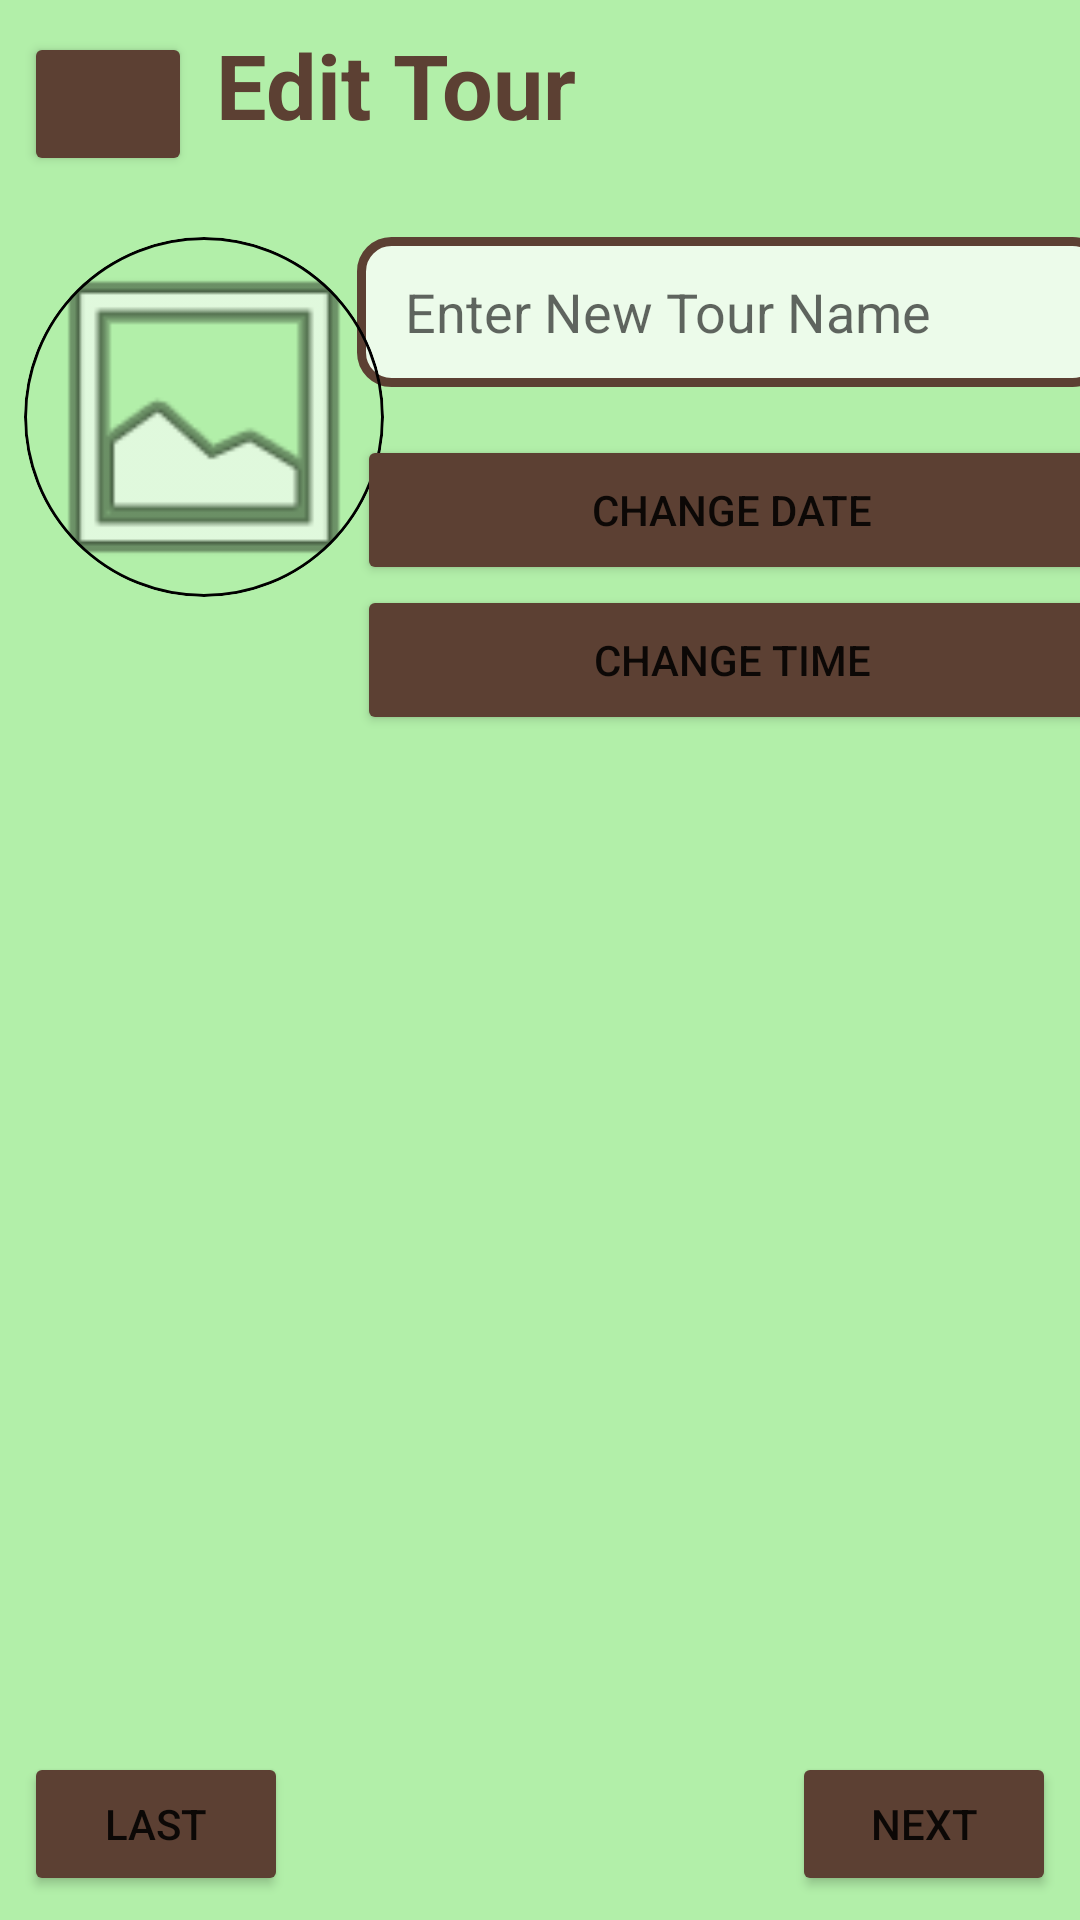

Where icons sit on this 1080*1920 app screen, as bbox=[x1, y1, x2, y2]:
gallery: bbox=[24, 237, 384, 597]
